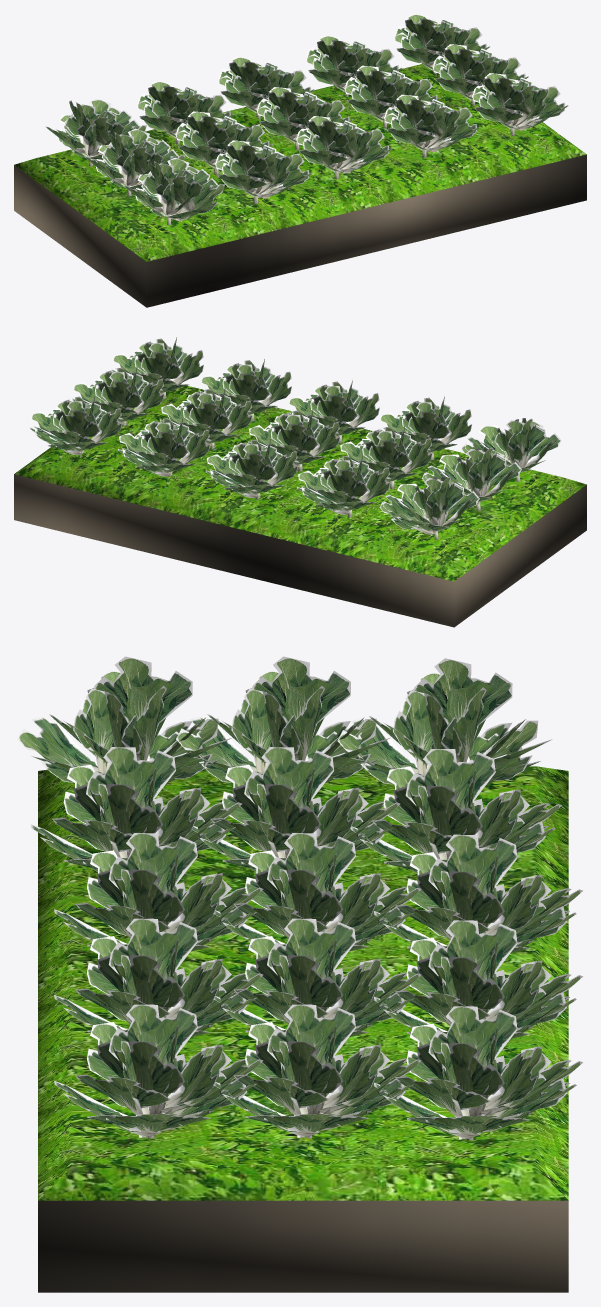
File: baicai-9d751762.glb
3 renders of one model, top to bottom at view 1: azimuth 30°, elevation 25°; view 2: azimuth 150°, elevation 25°; view 3: azimuth 270°, elevation 25°, orthographic. The views are drawn at different scales.
Visible parts, largest first — view 1: root; view 2: root; view 3: root.
Boxes of the visible parts, x1=… form: root: x1=14, y1=14, x2=586, y2=307; root: x1=14, y1=337, x2=586, y2=627; root: x1=17, y1=656, x2=582, y2=1292.
Bounding box in the file's own units: 2.52 × 0.6499 × 1.39.
Materials: 5 (4 with a texture image).
